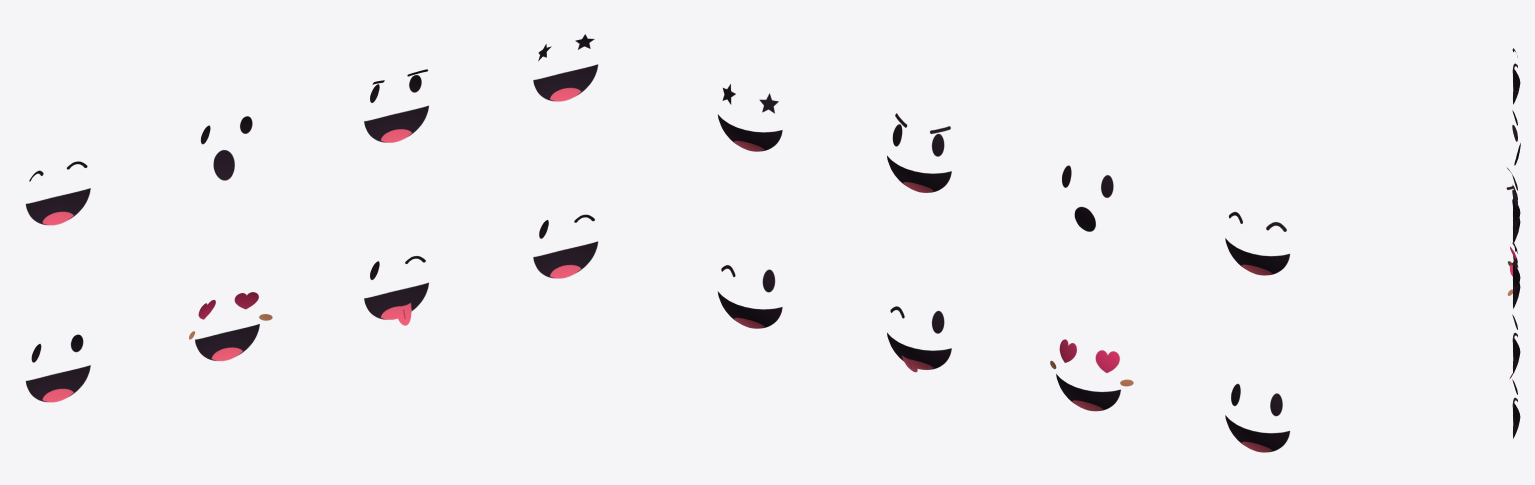
The model's file is Verity_Shared_Faces_Import.glb.
The picture shows the model from 3 angles, left to right: view 1: azimuth 30°, elevation 25°; view 2: azimuth 150°, elevation 25°; view 3: azimuth 270°, elevation 25°; orthographic projection. The views are drawn at different scales.
Visible parts, largest first — view 1: VerityFace_Love, VerityFace_Confident, VerityFace_Joy, VerityFace_Playful, VerityFace_Stars, VerityFace_Wink, VerityFace_Laugh, VerityFace_Surprise; view 2: VerityFace_Love, VerityFace_Confident, VerityFace_Joy, VerityFace_Playful, VerityFace_Stars, VerityFace_Wink, VerityFace_Laugh, VerityFace_Surprise; view 3: VerityFace_Confident, VerityFace_Playful, VerityFace_Stars, VerityFace_Wink, VerityFace_Laugh, VerityFace_Love, VerityFace_Surprise.
Boxes of the visible parts, x1,y1,x2,y2 form: VerityFace_Love: (189,292,272,360); VerityFace_Confident: (364,69,428,142); VerityFace_Joy: (25,334,90,402); VerityFace_Playful: (364,256,428,325); VerityFace_Stars: (533,34,598,101); VerityFace_Wink: (533,214,597,278); VerityFace_Laugh: (25,161,90,225); VerityFace_Surprise: (201,116,252,180); VerityFace_Love: (1050,339,1133,411); VerityFace_Confident: (887,113,951,192); VerityFace_Joy: (1225,384,1289,452); VerityFace_Playful: (887,306,951,372); VerityFace_Stars: (717,84,782,151); VerityFace_Wink: (717,265,782,328); VerityFace_Laugh: (1225,212,1289,275); VerityFace_Surprise: (1062,165,1113,231); VerityFace_Confident: (1506,167,1520,234); VerityFace_Playful: (1509,314,1520,378); VerityFace_Stars: (1512,241,1520,299); VerityFace_Wink: (1512,379,1520,438); VerityFace_Laugh: (1512,48,1520,104); VerityFace_Love: (1507,246,1520,308); VerityFace_Surprise: (1512,110,1520,165).
Bounding box in the file's own units: 13.3 × 6.3 × 2.8.
Materials: 8 (8 with a texture image).
